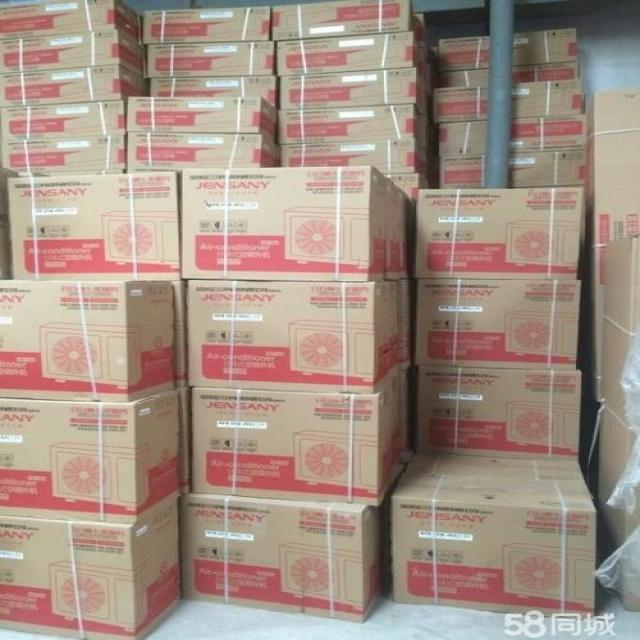box: (188, 367, 410, 507), (390, 474, 596, 620), (180, 489, 387, 623), (180, 166, 408, 281), (0, 499, 183, 640), (187, 279, 412, 393), (0, 389, 183, 526), (0, 278, 177, 402), (5, 172, 180, 282), (413, 184, 584, 278), (412, 278, 581, 370), (415, 365, 581, 458), (593, 86, 639, 402), (598, 234, 639, 547), (0, 28, 148, 78), (276, 30, 413, 76), (125, 133, 283, 172), (0, 65, 148, 106), (278, 66, 417, 109), (125, 98, 276, 137), (403, 451, 584, 483), (279, 106, 426, 145), (0, 0, 143, 39), (271, 0, 411, 39), (3, 132, 125, 176), (1, 99, 125, 142), (280, 140, 429, 174), (147, 43, 276, 78), (141, 6, 271, 40), (148, 77, 276, 106), (509, 113, 586, 154), (512, 78, 584, 116), (509, 153, 586, 187), (513, 28, 579, 65), (433, 86, 489, 122), (439, 36, 490, 71), (439, 122, 490, 157), (439, 155, 486, 187), (513, 59, 579, 81), (381, 174, 428, 202), (438, 68, 489, 88)
